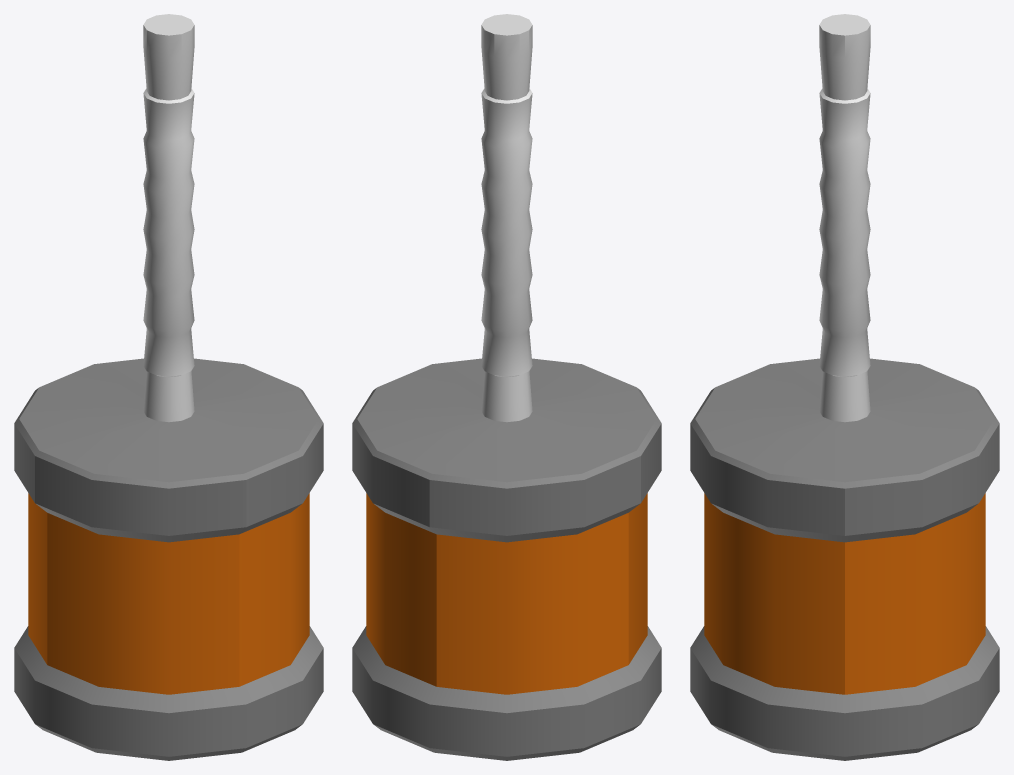
The model's file is Light.fbx.
The picture shows the model from 3 angles, left to right: view 1: azimuth 30°, elevation 25°; view 2: azimuth 150°, elevation 25°; view 3: azimuth 270°, elevation 25°; orthographic projection.
Visible parts, largest first — view 1: Cylinder; view 2: Cylinder; view 3: Cylinder.
Part boxes in pixels (bbox=[...]): Cylinder: bbox=[14, 14, 323, 760]; Cylinder: bbox=[352, 14, 661, 760]; Cylinder: bbox=[690, 14, 999, 760].
Bounding box in the file's own units: 200 × 481 × 200.
